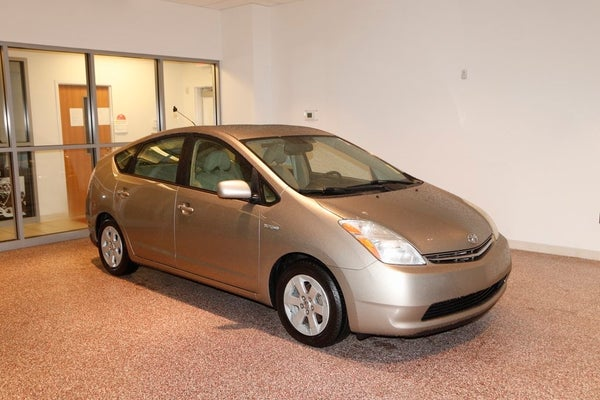Toyota Prius: (85, 124, 512, 347)
